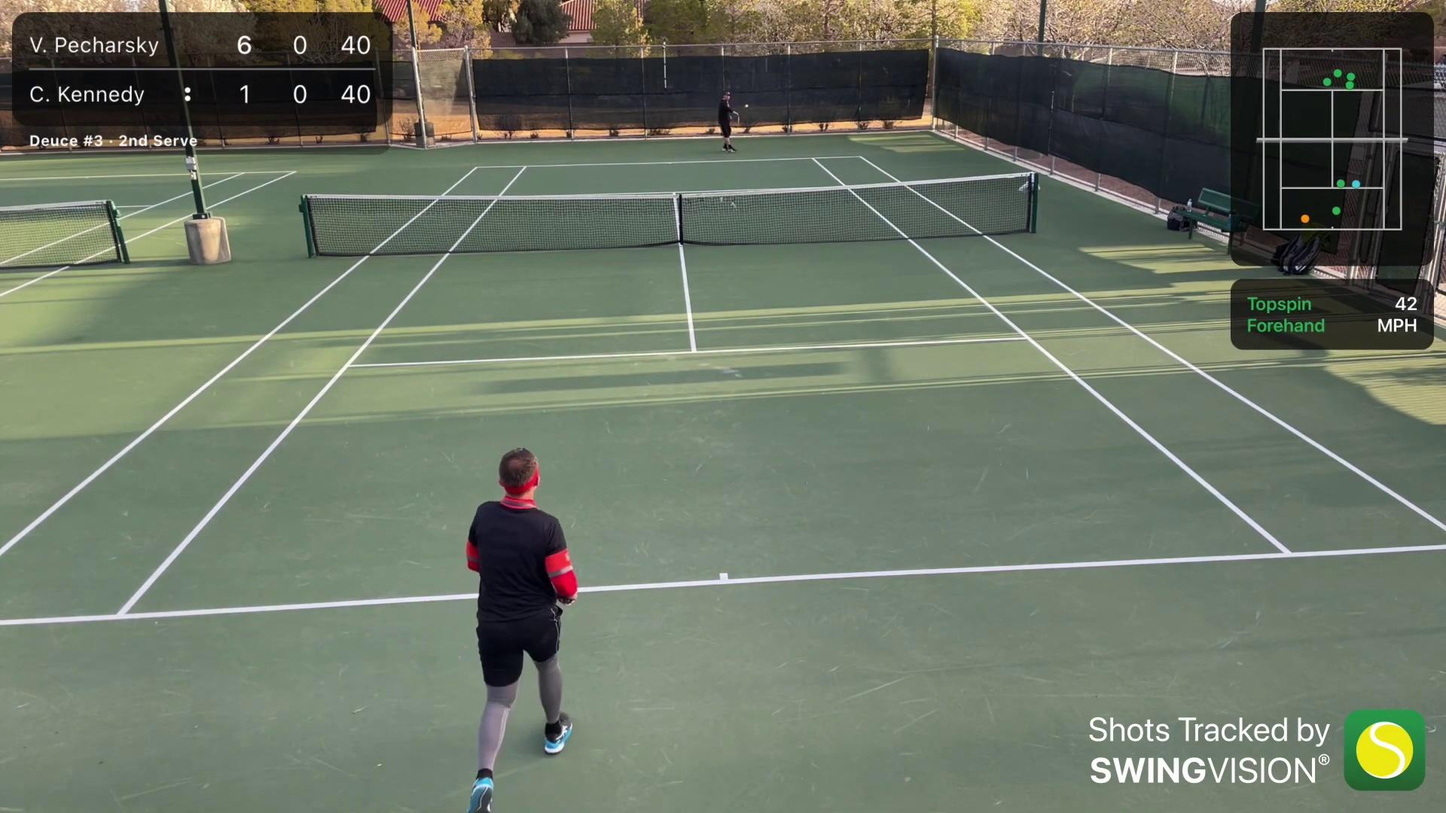ball: (743, 104, 749, 109)
